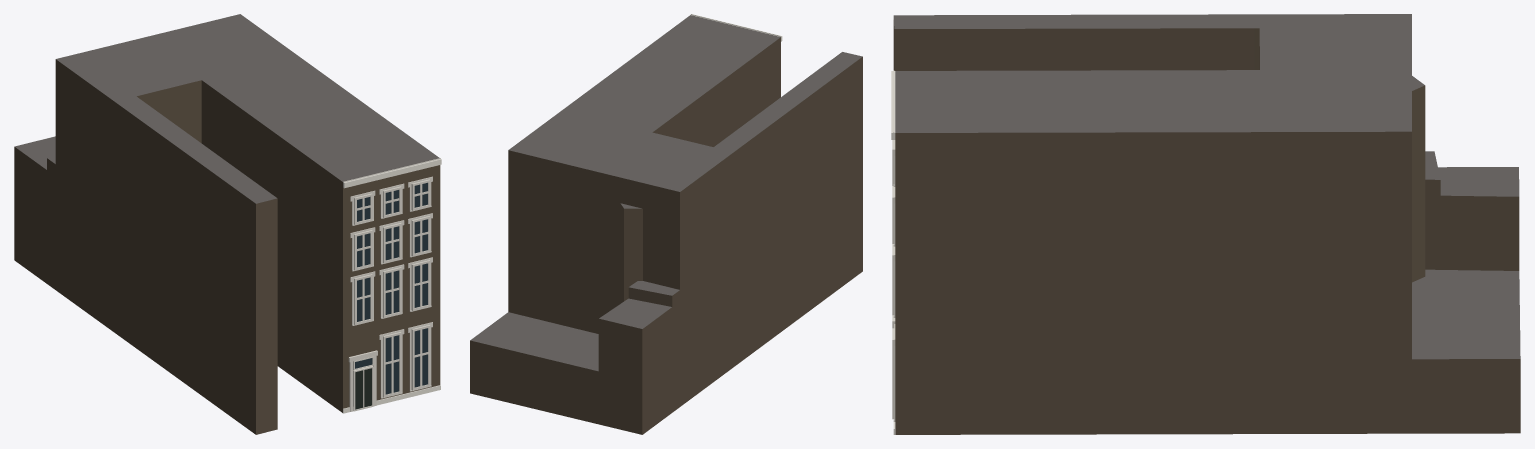
3 views of the same model, side by side, from view 1: azimuth 30°, elevation 25°; view 2: azimuth 150°, elevation 25°; view 3: azimuth 270°, elevation 25° (orthographic). The views are drawn at different scales.
Parts seen in each view (by area): view 1: spec-0363100012169386; view 2: spec-0363100012169386; view 3: spec-0363100012169386.
Part boxes in pixels (x1,y1,x2,y2): spec-0363100012169386: [14, 14, 441, 434]; spec-0363100012169386: [470, 14, 862, 434]; spec-0363100012169386: [891, 14, 1520, 434].
Bounding box in the file's own units: 13.15 × 15.55 × 29.29.
